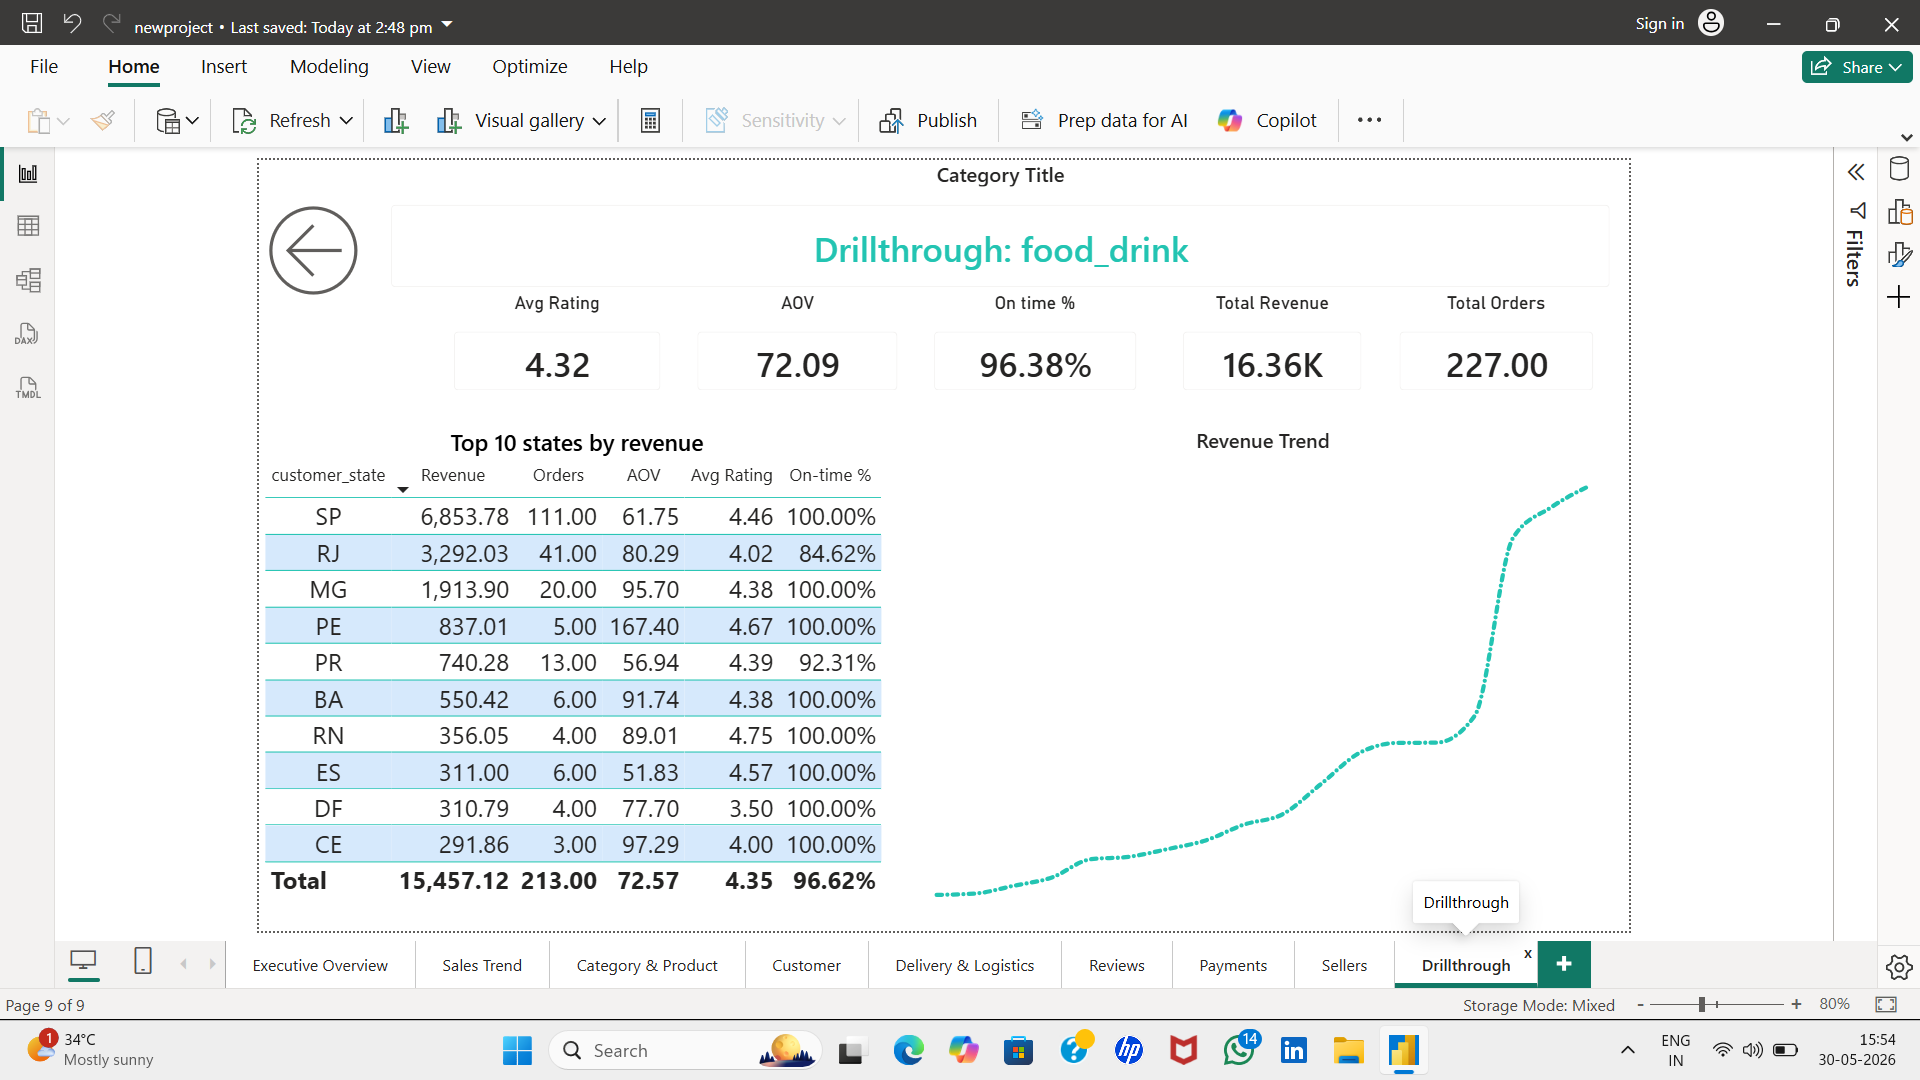

The page's visual inventory and layout, read from the dashboard file:
{"tool":"powerbi","page":{"name":"Drillthrough","canvas":[1280,720],"ordinal":8},"visuals":[{"type":"actionButton","box":[0,33.6,106.2,102.2],"z":0},{"type":"cardVisual","title":"Category Title","fields":{"Data":["public bi_fact_sales.Drill Title"]},"box":[106.2,0,1173.5,135.8],"z":1000},{"type":"cardVisual","title":"Total Orders","fields":{"Data":["public bi_fact_sales.Orders"]},"box":[1048.5,123.7,215.1,108.9],"z":2000},{"type":"cardVisual","title":"AOV","fields":{"Data":["public bi_fact_sales.AOV"]},"box":[392.5,123.7,221.8,108.9],"z":3000},{"type":"cardVisual","title":"On time %","fields":{"Data":["public bi_fact_sales.On-time %"]},"box":[614.3,123.7,223.1,108.9],"z":4000},{"type":"cardVisual","title":"Avg Rating","fields":{"Data":["public bi_fact_sales.Avg Rating"]},"box":[165.3,123.7,227.2,108.9],"z":5000},{"type":"cardVisual","title":"Total Revenue","fields":{"Data":["public bi_fact_sales.Revenue"]},"box":[846.8,123.7,201.6,108.9],"z":6000},{"type":"lineChart","title":"Revenue Trend","fields":{"Category":["DimDate.Year-Month"],"Y":["public bi_fact_sales.Revenue"]},"box":[614.3,248.7,649.2,450.3],"z":7000},{"type":"tableEx","title":"Top 10 states by revenue","fields":{"Values":["public bi_fact_sales.customer_state","public bi_fact_sales.Revenue","public bi_fact_sales.Orders","public bi_fact_sales.AOV","public bi_fact_sales.Avg Rating","public bi_fact_sales.On-time %"]},"box":[0,248.7,594.1,471.8],"z":8000}]}

Visuals, with their boxes on the page's 1280x720 design canvas (x1, y1, x2, y2). These are canvas units, not pixel positions in the 1920x1080 screenshot, which may show the page scaled, cropped or inside an application window:
actionButton: detection(0, 34, 106, 136)
"Category Title" cardVisual: detection(106, 0, 1280, 136)
"Total Orders" cardVisual: detection(1048, 124, 1264, 233)
"AOV" cardVisual: detection(392, 124, 614, 233)
"On time %" cardVisual: detection(614, 124, 837, 233)
"Avg Rating" cardVisual: detection(165, 124, 392, 233)
"Total Revenue" cardVisual: detection(847, 124, 1048, 233)
"Revenue Trend" lineChart: detection(614, 249, 1264, 699)
"Top 10 states by revenue" tableEx: detection(0, 249, 594, 720)
